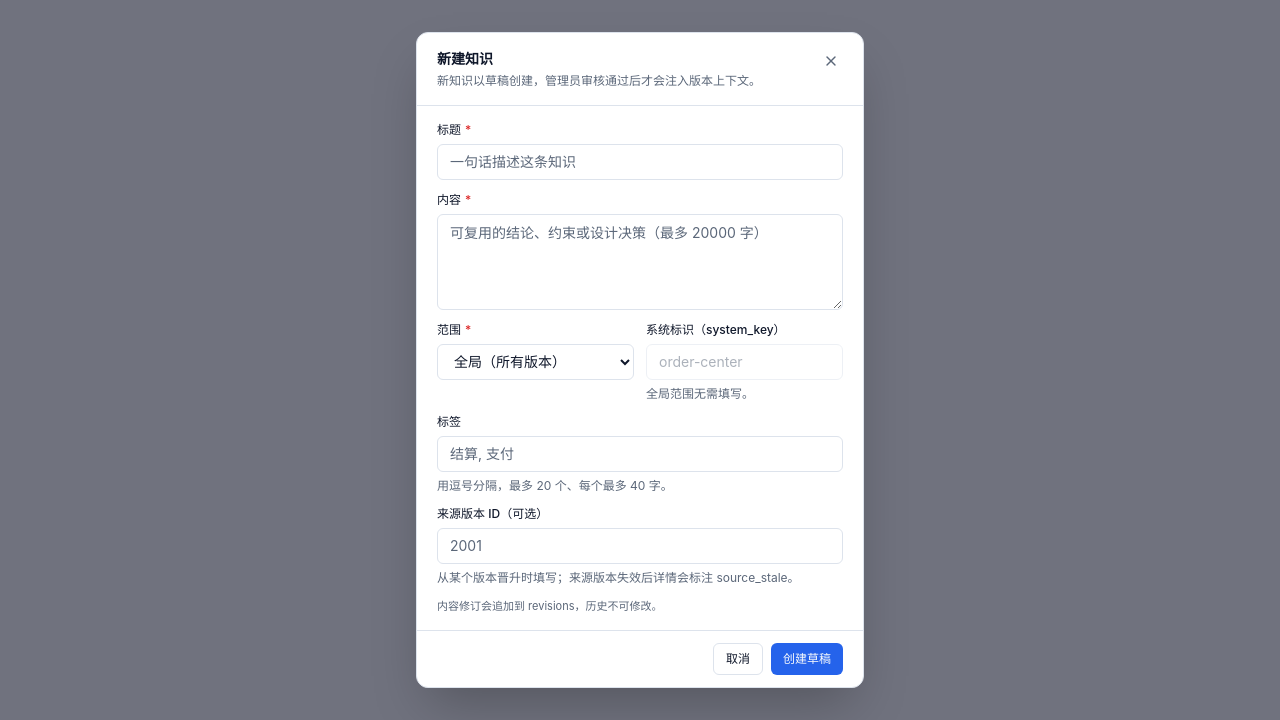
it: KnowledgeEditor › shows the API error and keeps the editor open
Type "重复标题" into the field labelled "标题".
click(640, 162); type("重复标题")  # box [437,144,843,180]
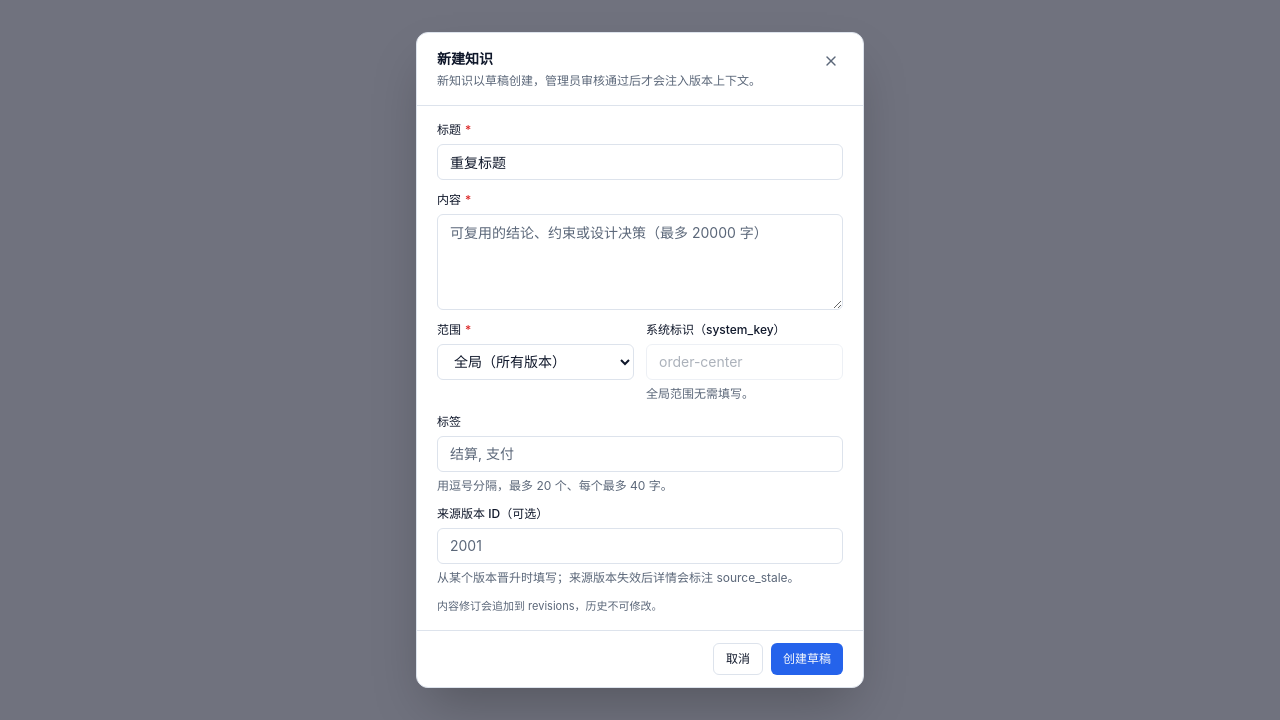
Type "内容说明" into the text box labelled "内容".
click(640, 262); type("内容说明")  # box [437,214,843,310]
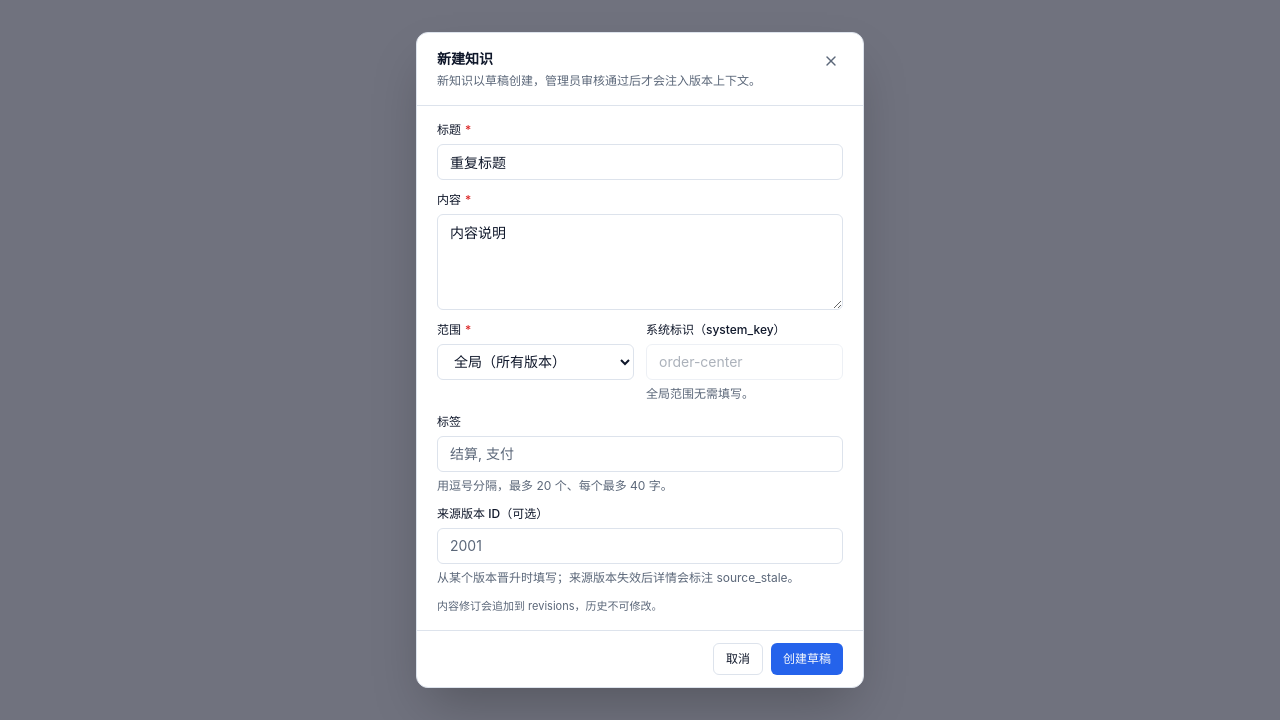
Click the button with test id "knowledge-editor-submit".
click(807, 659)  # box [771,643,843,675]
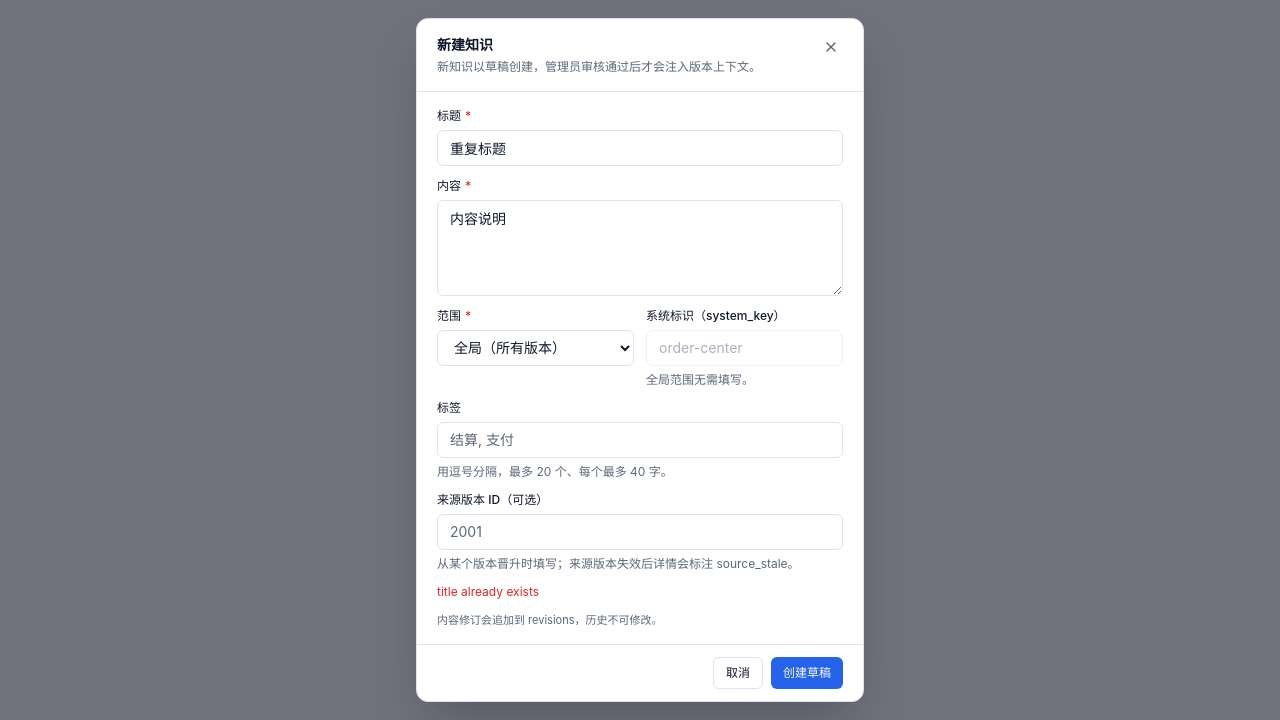
Expected: the form with test id "knowledge-editor" is shown, [437,108,843,628]
Expected: the text "title already exists" is shown, [437,584,539,599]
